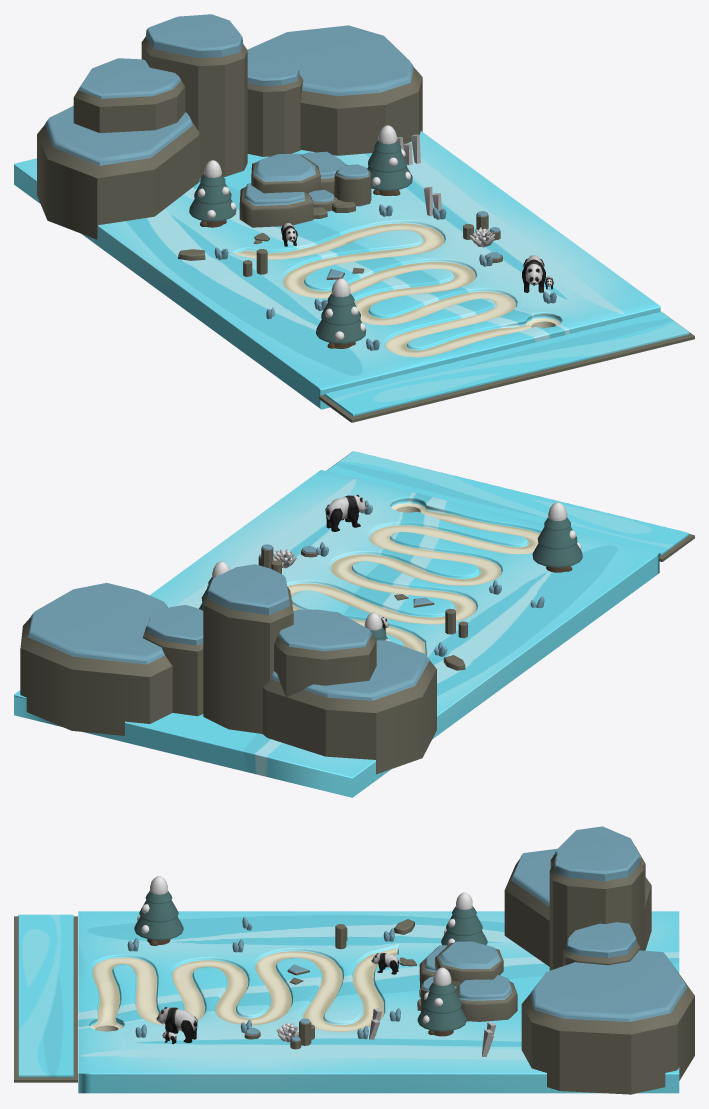
The model's file is Panda_Map.fbx.
The picture shows the model from 3 angles, top to bottom: view 1: azimuth 30°, elevation 25°; view 2: azimuth 150°, elevation 25°; view 3: azimuth 270°, elevation 25°; orthographic projection. The views are drawn at different scales.
Parts seen in each view (by area): view 1: Ground, polySurface89, polySurface138, polySurface136, Player_Place, polySurface137, polySurface139, Player_Place1, polySurface104, polySurface97, polySurface102, polySurface92 (+6 smaller); view 2: Ground, polySurface138, polySurface89, polySurface136, Player_Place, polySurface137, polySurface139, polySurface5, polySurface130, polySurface144; view 3: Ground, polySurface138, Player_Place, polySurface136, polySurface89, polySurface139, polySurface92, polySurface97, Player_Place1, polySurface5, polySurface137, polySurface133 (+5 smaller).
Boxes of the visible parts, x1,y1,x2,y2 form: Ground: [14, 131, 660, 409]; polySurface89: [37, 106, 199, 239]; polySurface138: [247, 25, 422, 155]; polySurface136: [141, 14, 247, 178]; Player_Place: [324, 311, 689, 416]; polySurface137: [73, 58, 185, 132]; polySurface139: [247, 51, 303, 156]; Player_Place1: [319, 313, 694, 422]; polySurface104: [239, 183, 313, 227]; polySurface97: [251, 153, 320, 193]; polySurface102: [334, 164, 371, 206]; polySurface92: [302, 151, 347, 194]; Ground: [14, 470, 659, 797]; polySurface138: [20, 583, 172, 735]; polySurface89: [262, 640, 436, 774]; polySurface136: [203, 564, 293, 733]; Player_Place: [326, 451, 689, 555]; polySurface137: [274, 609, 376, 697]; polySurface139: [143, 605, 203, 716]; polySurface5: [325, 495, 367, 531]; polySurface130: [532, 543, 582, 567]; polySurface144: [537, 526, 577, 549]; Ground: [78, 911, 679, 1093]; polySurface138: [521, 950, 694, 1094]; Player_Place: [18, 914, 73, 1077]; polySurface136: [549, 835, 644, 970]; polySurface89: [504, 848, 651, 966]; polySurface139: [563, 922, 640, 965]; polySurface92: [455, 975, 517, 1021]; polySurface97: [435, 941, 503, 982]; Player_Place1: [14, 916, 77, 1082]; polySurface5: [156, 1007, 197, 1042]; polySurface137: [550, 826, 645, 905]; polySurface133: [417, 1008, 466, 1031].
Bounding box in the file's own units: 1813 × 692 × 2933.
